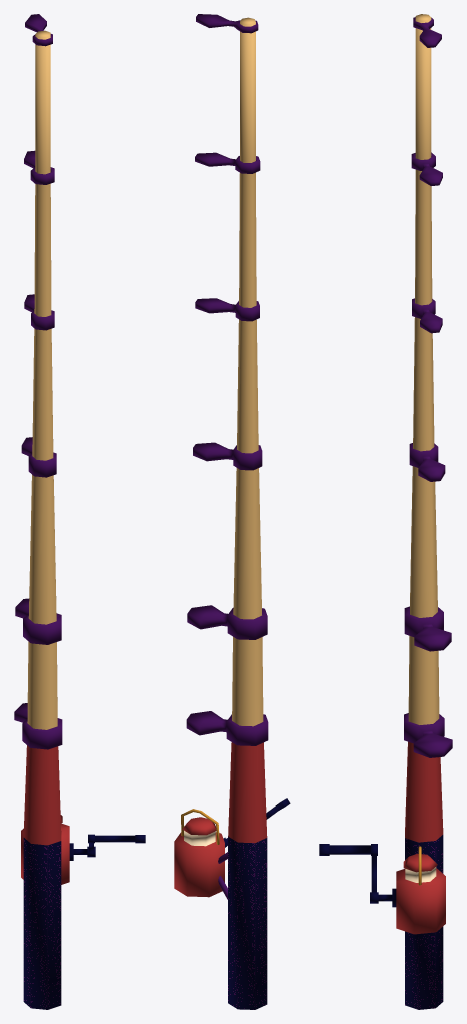
The model's file is fishing_pole.glb.
The picture shows the model from 3 angles, left to right: view 1: azimuth 90°, elevation 25°; view 2: azimuth 150°, elevation 25°; view 3: azimuth 270°, elevation 25°; orthographic projection.
Parts seen in each view (by area): view 1: Cylinder.006; view 2: Cylinder.006; view 3: Cylinder.006.
Boxes of the visible parts, box(x1,y1,x2,y2) form: Cylinder.006: box(14, 14, 145, 1009); Cylinder.006: box(174, 14, 290, 1009); Cylinder.006: box(319, 14, 452, 1009).
Size of the model in its own units: 0.2178 by 2.28 by 0.2797.
Materials: 1 (1 with a texture image).
